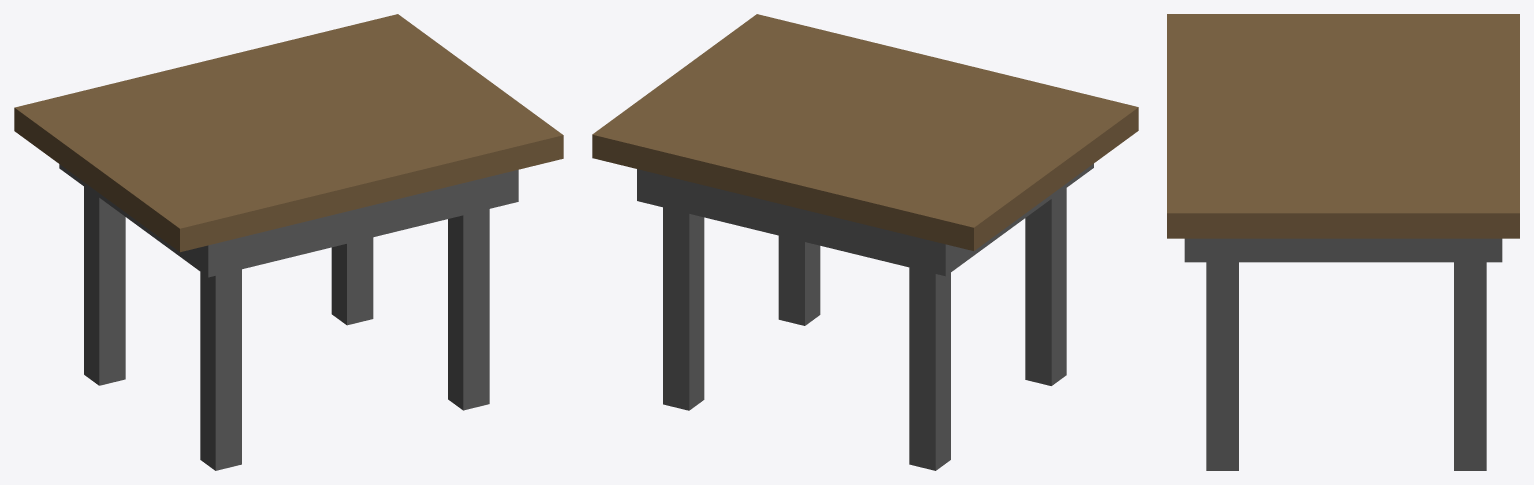
File: table.fbx
3 views of the same model, side by side, from view 1: azimuth 30°, elevation 25°; view 2: azimuth 150°, elevation 25°; view 3: azimuth 270°, elevation 25° (orthographic). The views are drawn at different scales.
Visible parts, largest first — view 1: pCube2, pCube3, pCube7, pCube4, pCube6, pCube5; view 2: pCube2, pCube3, pCube6, pCube5, pCube7, pCube4; view 3: pCube2, pCube3, pCube4, pCube5.
Part boxes in pixels (x1,y1,x2,y2): pCube2: [14, 14, 563, 252]; pCube3: [59, 164, 518, 277]; pCube7: [200, 269, 241, 470]; pCube4: [448, 209, 489, 410]; pCube6: [84, 186, 125, 385]; pCube5: [331, 237, 373, 325]; pCube2: [592, 14, 1138, 250]; pCube3: [637, 163, 1093, 276]; pCube6: [909, 267, 950, 470]; pCube5: [663, 207, 704, 410]; pCube7: [1025, 188, 1066, 385]; pCube4: [778, 235, 820, 325]; pCube2: [1167, 14, 1519, 238]; pCube3: [1184, 238, 1502, 262]; pCube4: [1206, 262, 1238, 470]; pCube5: [1454, 262, 1486, 470].
Bounding box in the file's own units: 10.04 × 6.72 × 7.5.
